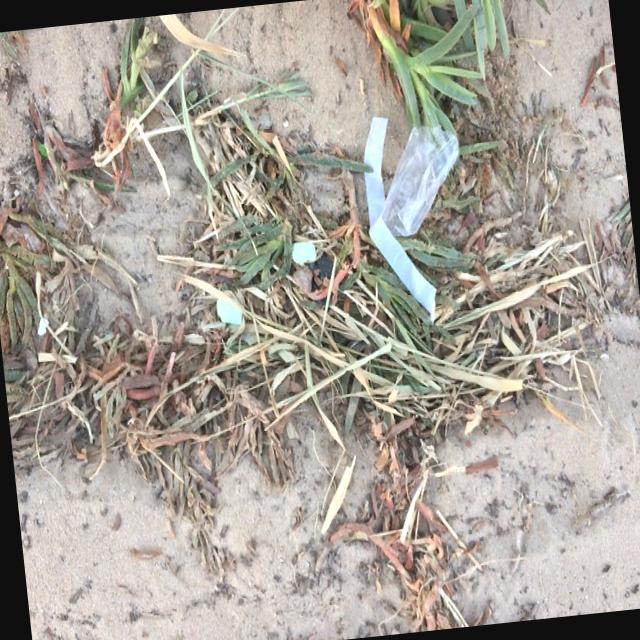Trash: (367, 108, 464, 248)
